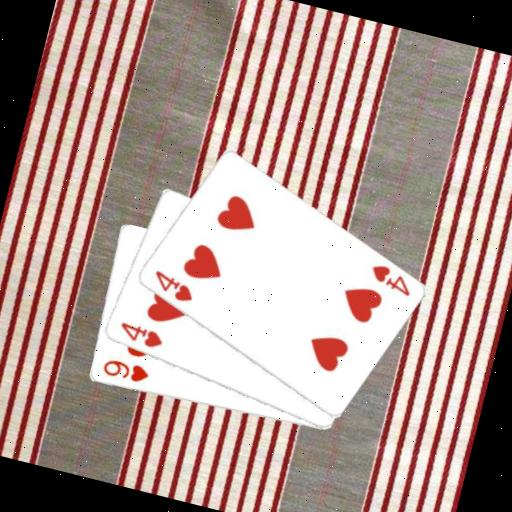4H: (146, 266, 199, 306), (364, 259, 417, 299), (114, 318, 167, 353)
9H: (98, 353, 152, 387)
